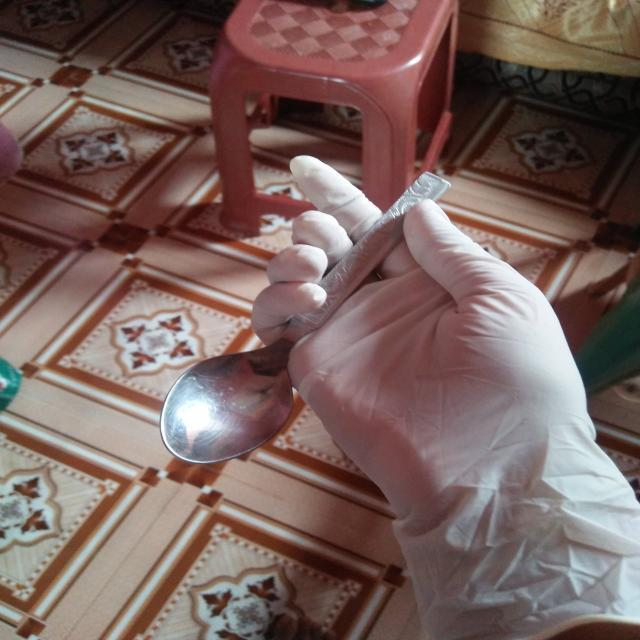glove_hand: (238, 144, 640, 636)
